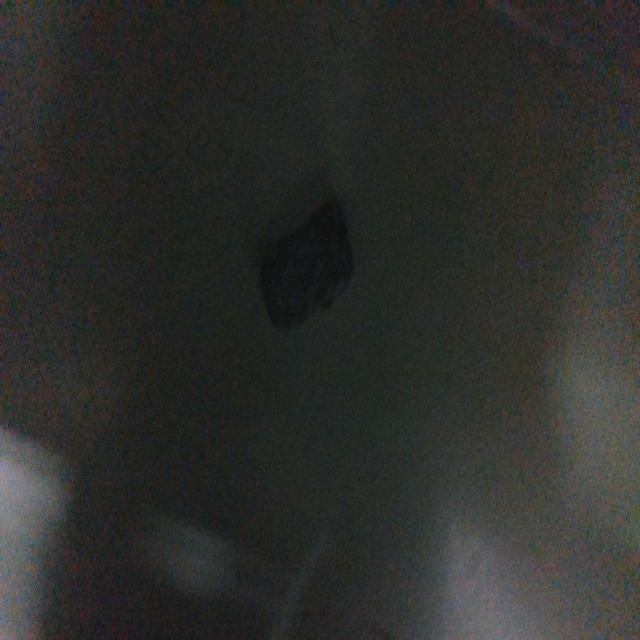stone: (259, 196, 356, 333)
